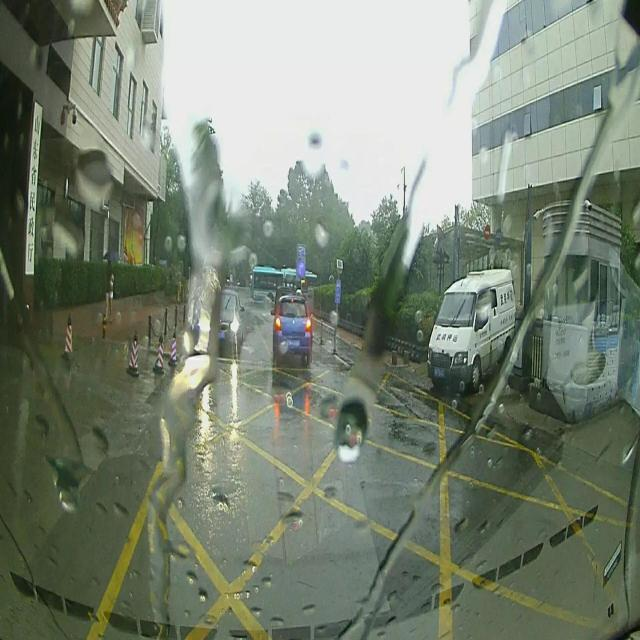car: (428, 268, 514, 390), (270, 295, 314, 363), (198, 288, 245, 350)
